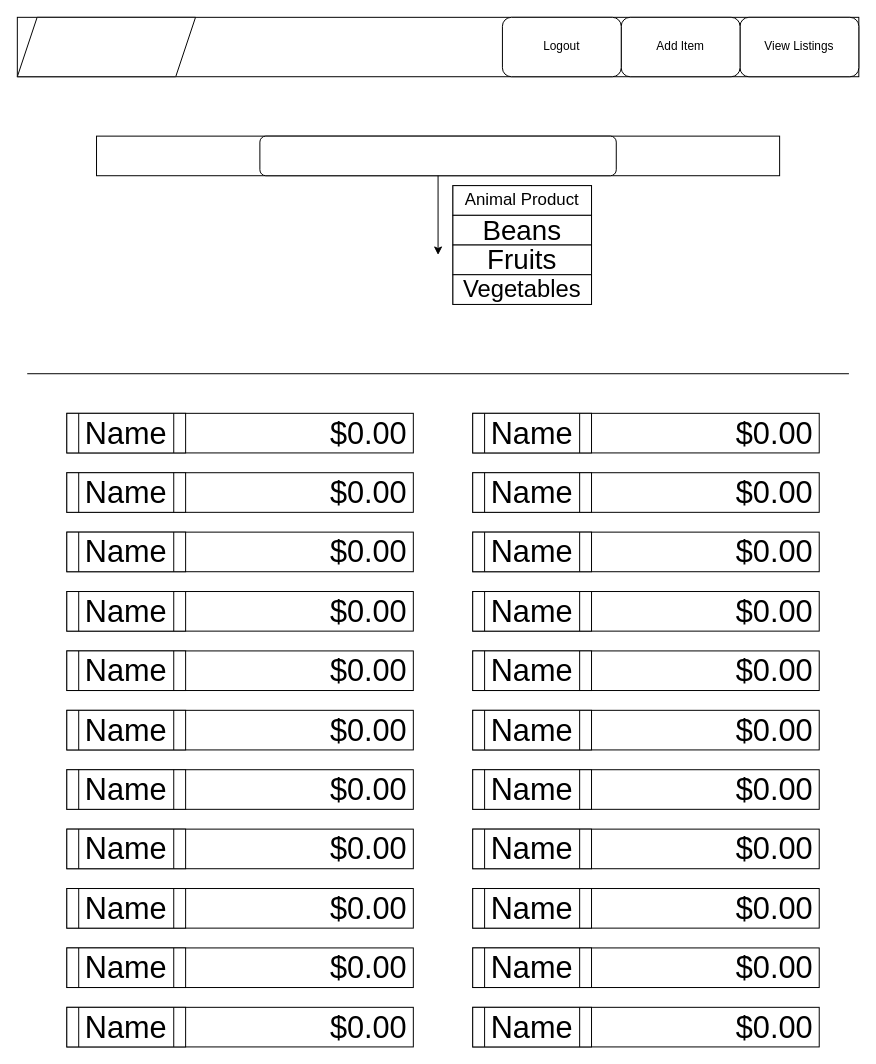
This 876x1064 diagram has some shape labels left out. The box of each missing label's shape, as (x1, y1, x2, y2) in pixels:
African Marketplace: (16, 16, 196, 77)
Change Catagory: (259, 135, 616, 176)
